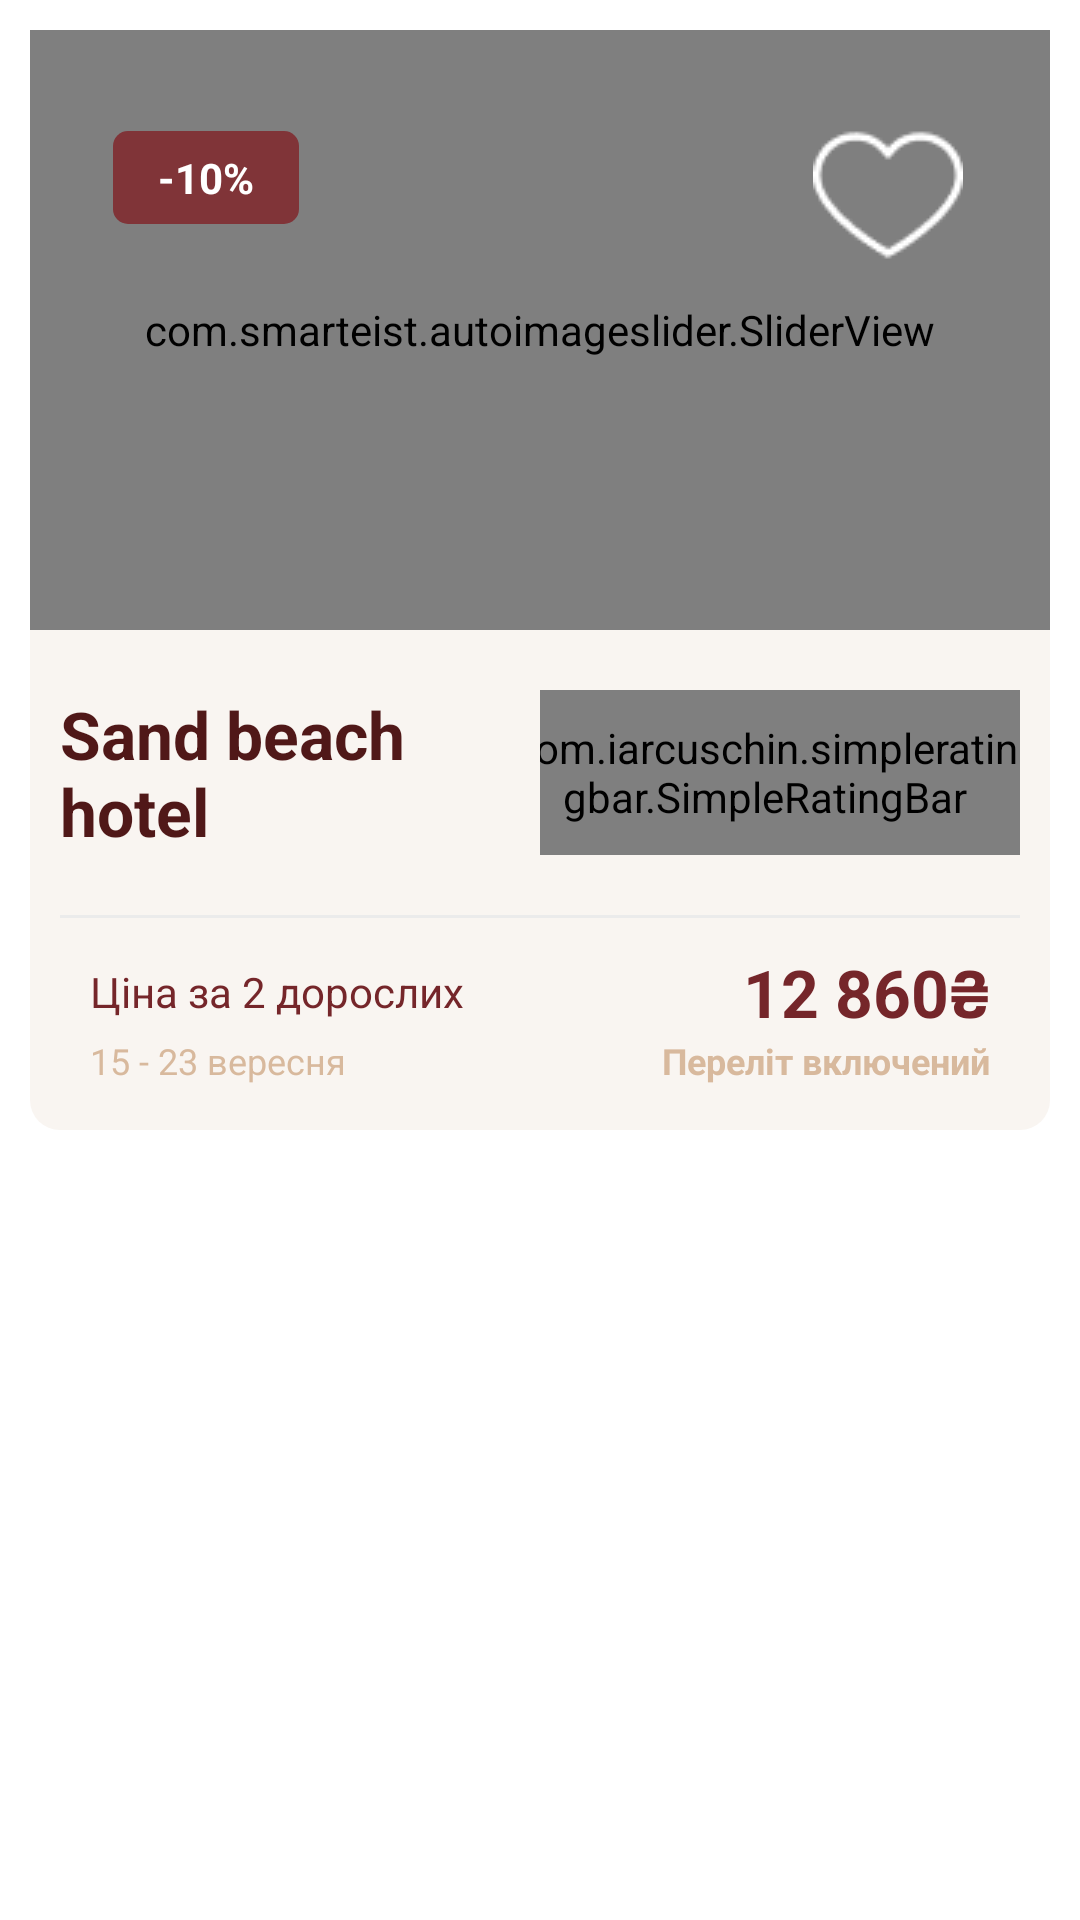

Screen size 1080px×1920px. Icon name, then its center in pixels as point (x, y):
favourite no: point (888, 195)
